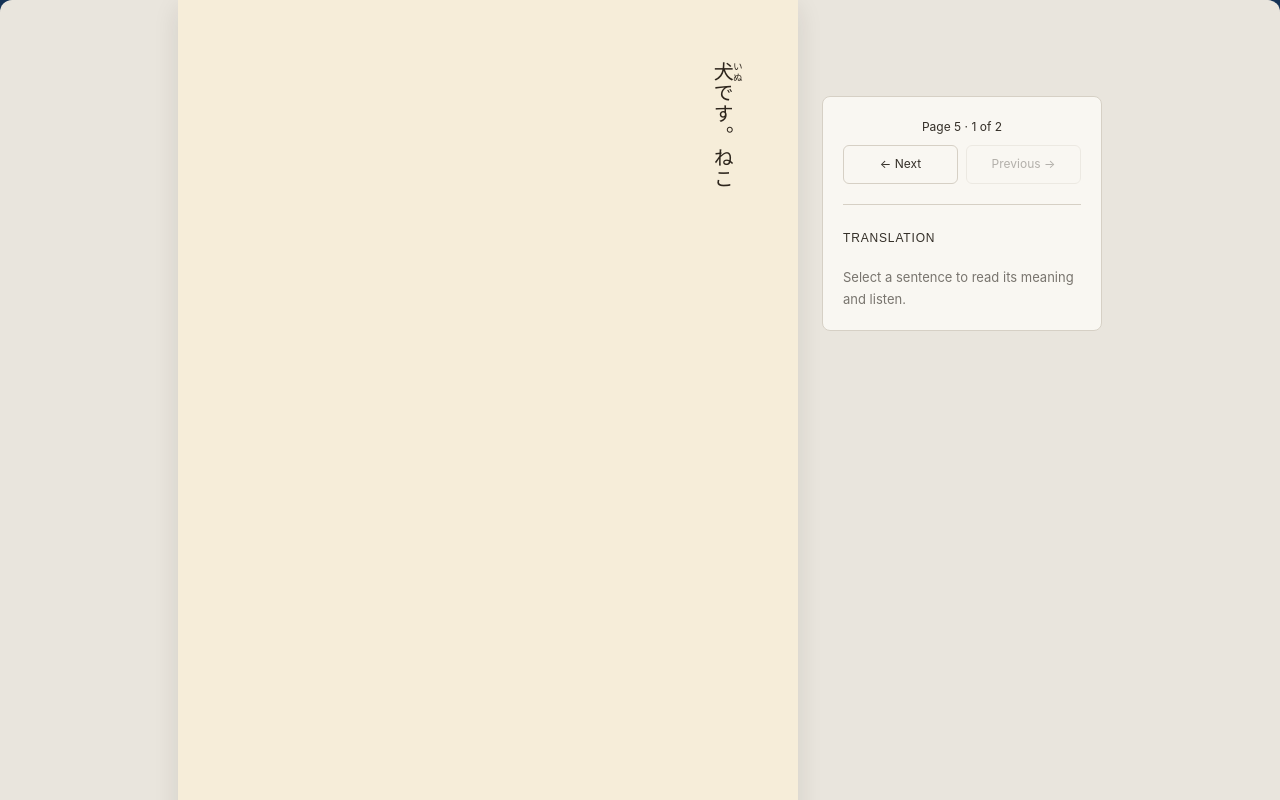
Test: private reading interactions › turns pages with arrows while retaining playback and an off-page selection
Click the button with aria-label "犬です。" at (727, 104), box top-left (711, 61), bottom-right (742, 147)
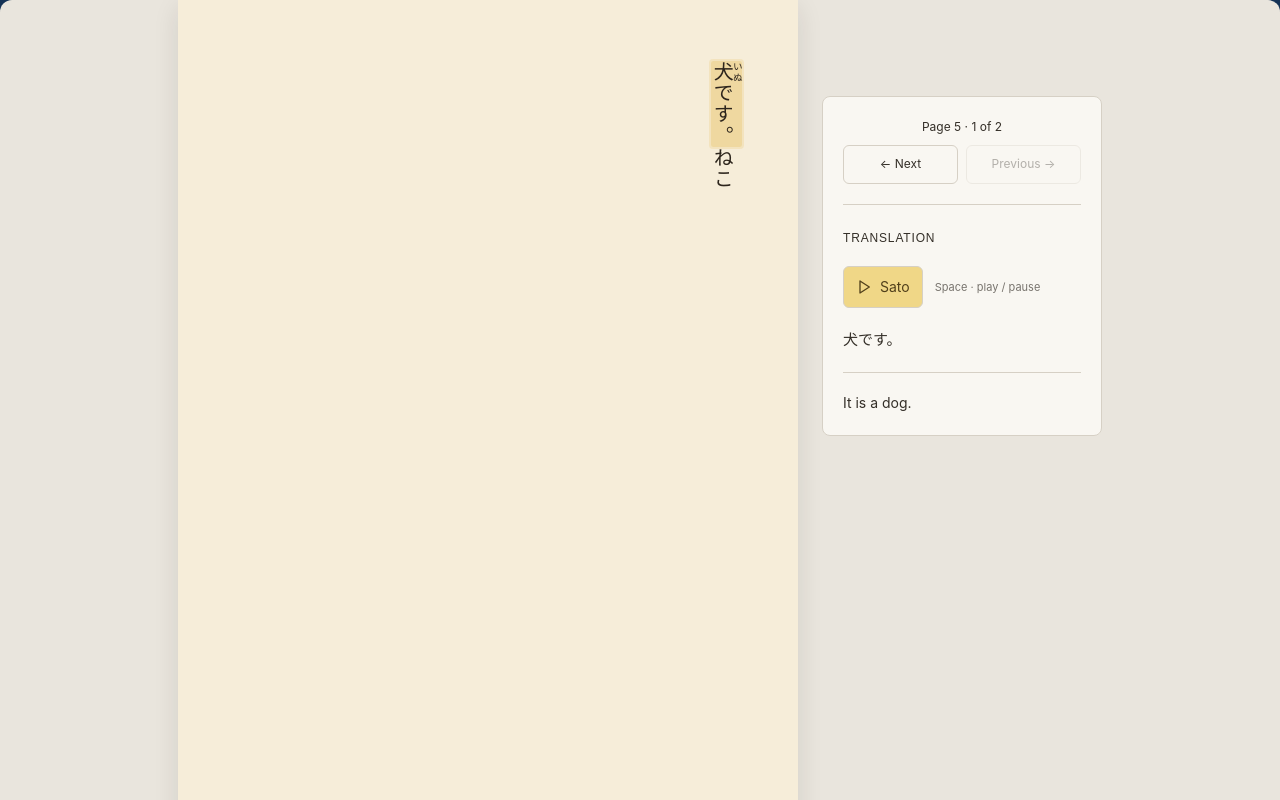
Press Space
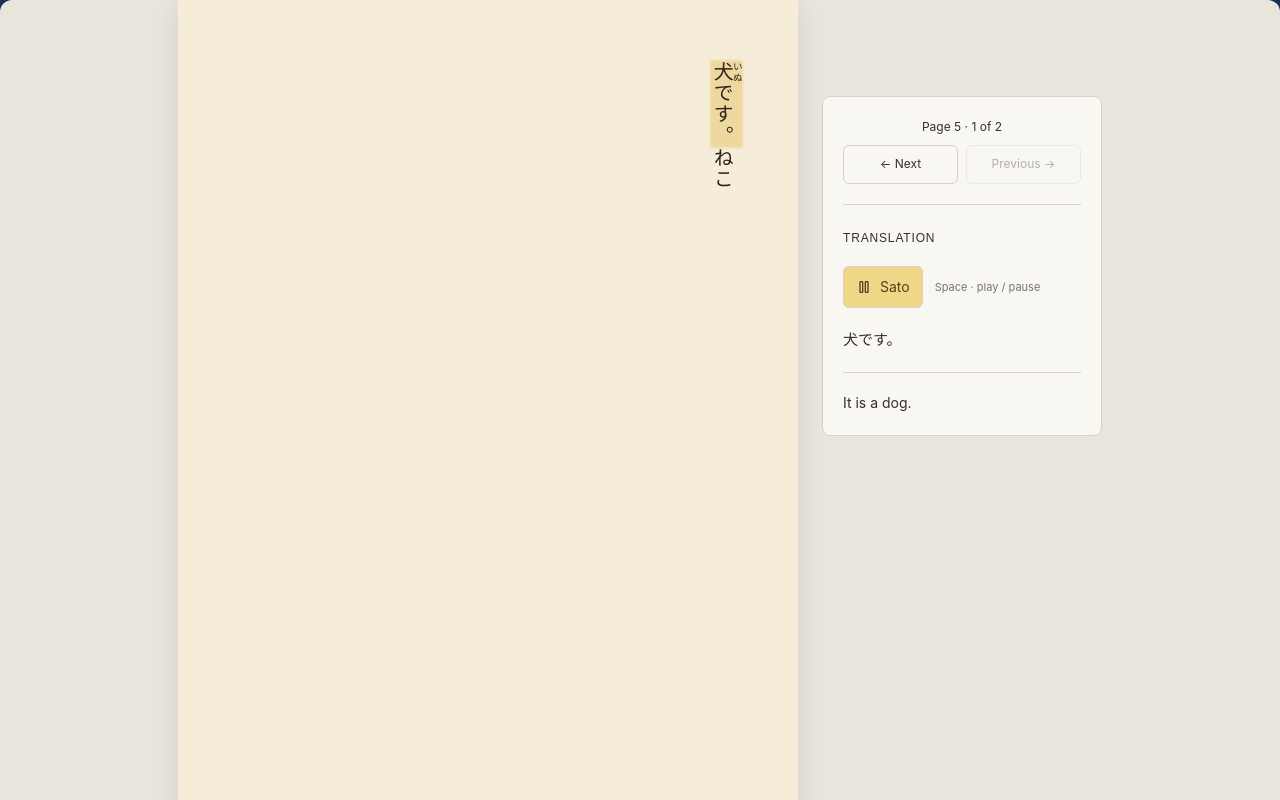
Result: the button with aria-label "Pause sentence" is shown at top-left (843, 266), bottom-right (923, 308)
Press ArrowLeft
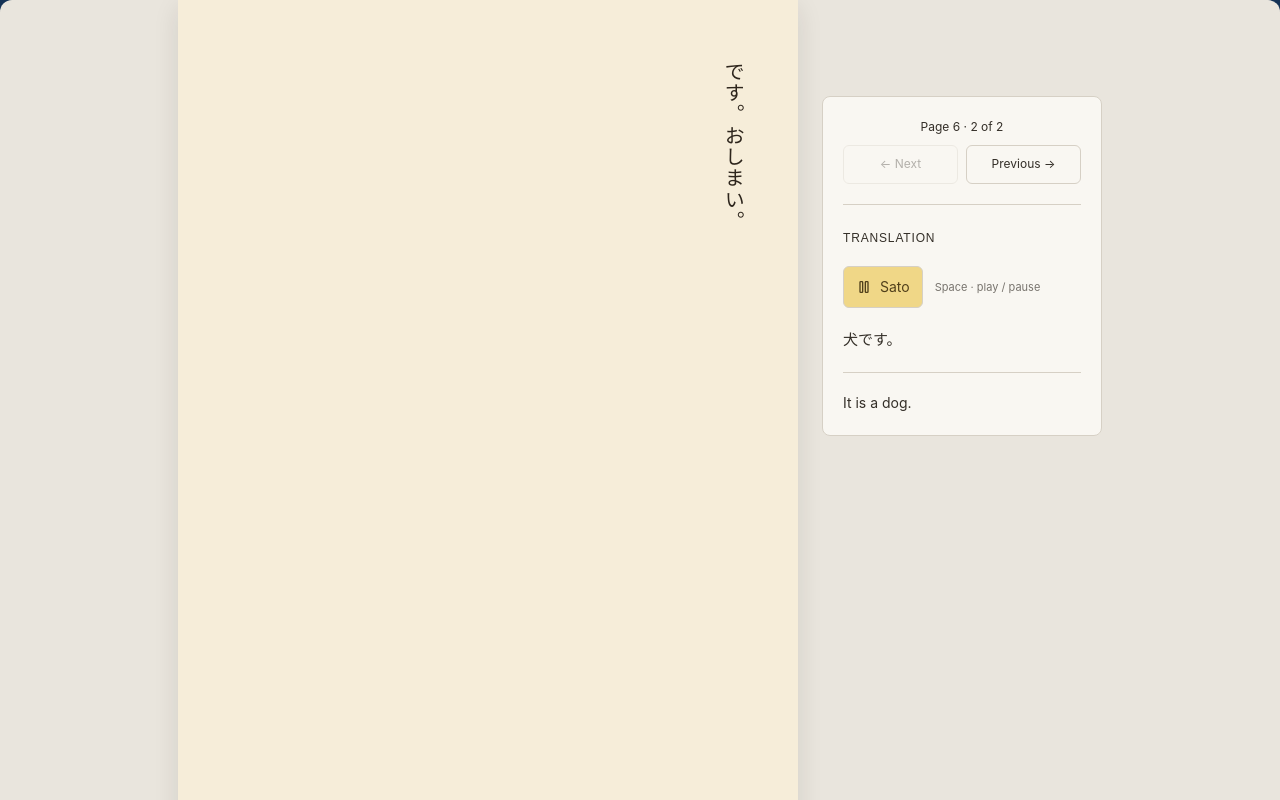
Result: the text "It is a dog." is shown at top-left (843, 394), bottom-right (912, 411)
Result: the text "Page 6 · 2 of 2" is shown at top-left (921, 119), bottom-right (1004, 134)
Press ArrowLeft
Result: the text "Page 6 · 2 of 2" is shown at top-left (921, 119), bottom-right (1004, 134)
Press ArrowRight
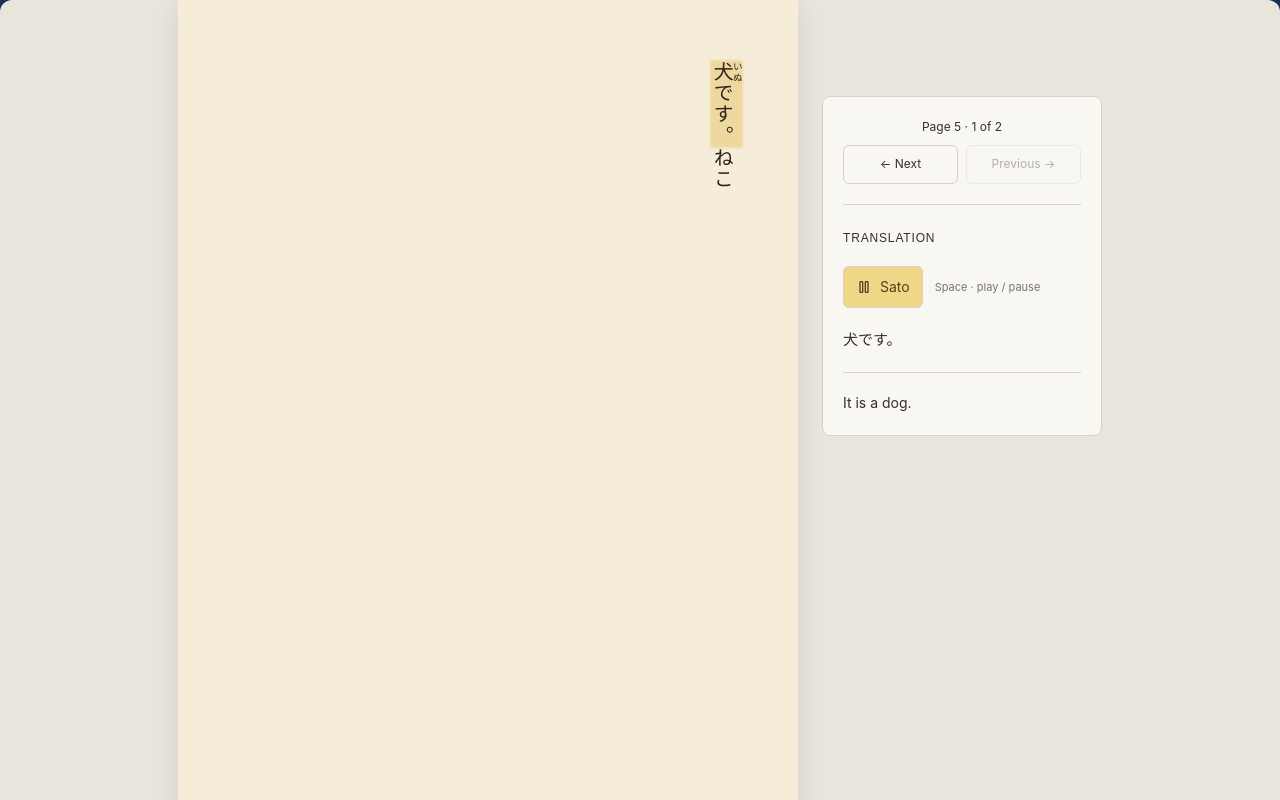
Result: the text "Page 5 · 1 of 2" is shown at top-left (922, 119), bottom-right (1002, 134)
